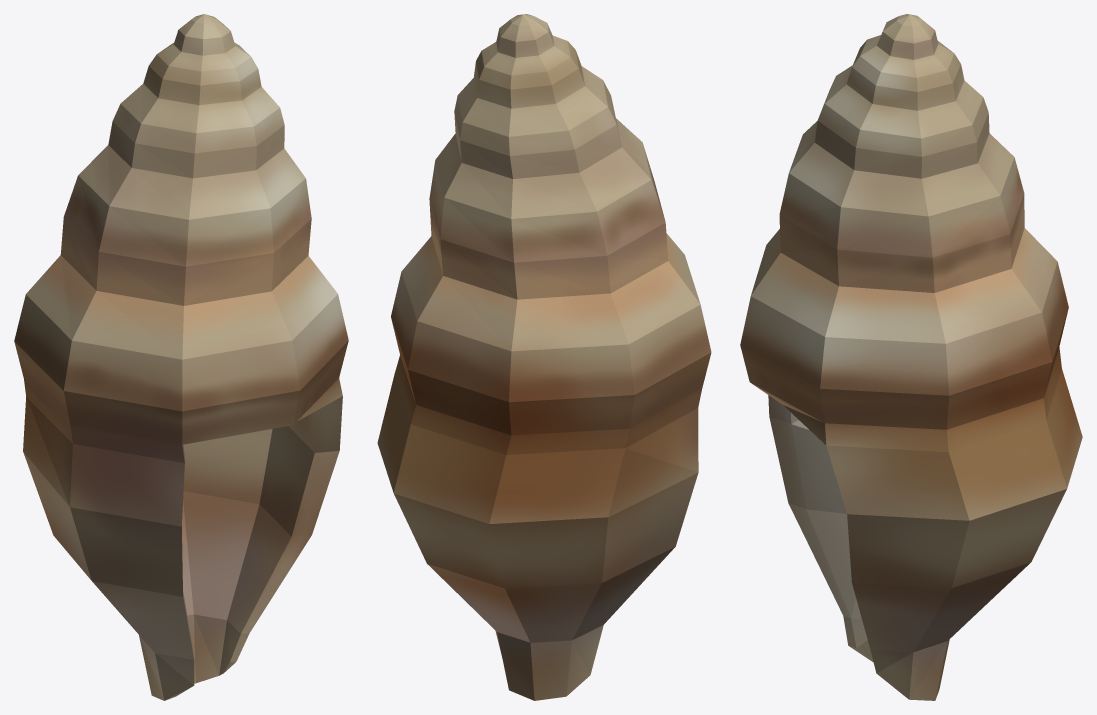
The model's file is ShellConch.glb.
The picture shows the model from 3 angles, left to right: view 1: azimuth 30°, elevation 25°; view 2: azimuth 150°, elevation 25°; view 3: azimuth 270°, elevation 25°; orthographic projection. The views are drawn at different scales.
Parts seen in each view (by area): view 1: Node.003, Node.002; view 2: Node.003, Node.002; view 3: Node.002, Node.003.
Boxes of the visible parts, <box> form: Node.003: <box>14,14,300,700</box>; Node.002: <box>182,14,348,683</box>; Node.003: <box>489,14,711,700</box>; Node.002: <box>377,14,534,700</box>; Node.002: <box>740,14,1082,700</box>; Node.003: <box>751,14,953,662</box>.
Bounding box in the file's own units: 1.88 × 4.29 × 1.94.
Materials: 1 (1 with a texture image).
